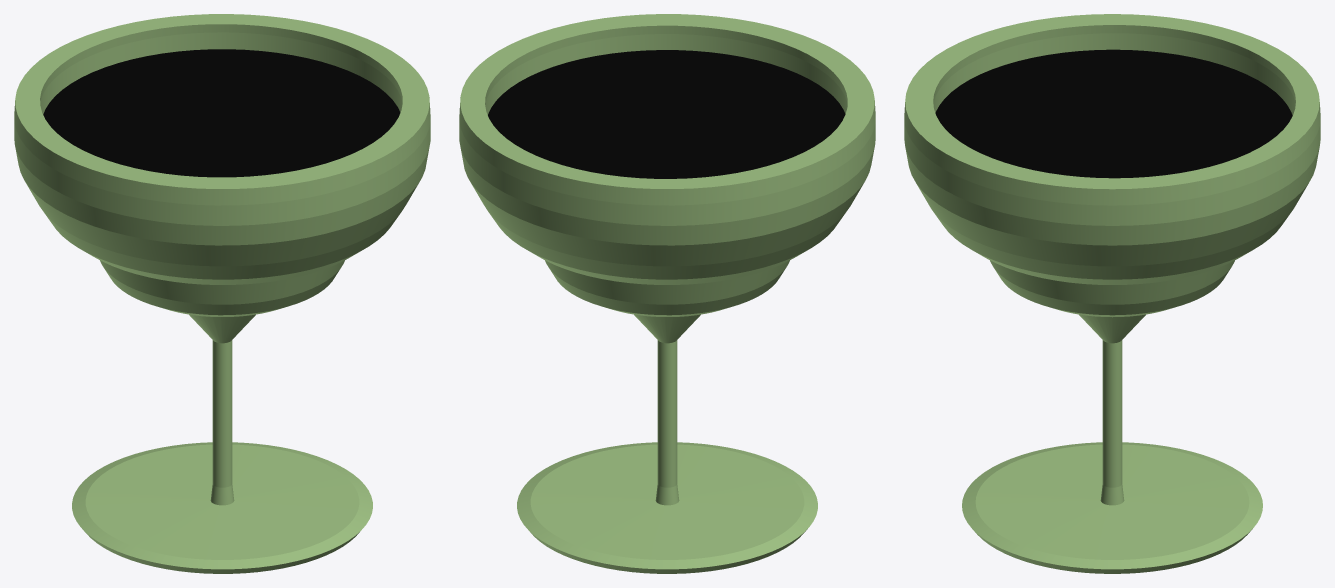
File: Glass7.FBX
The picture shows the model from 3 angles, left to right: view 1: azimuth 30°, elevation 25°; view 2: azimuth 150°, elevation 25°; view 3: azimuth 270°, elevation 25°; orthographic projection.
Parts seen in each view (by area): view 1: Object023, Object025, Line009; view 2: Object023, Object025, Line009; view 3: Object023, Object025, Line009.
Part boxes in pixels (x1,y1,x2,y2): Object023: (14,14,430,343); Object025: (43,49,400,177); Line009: (72,340,372,573); Object023: (459,14,875,343); Object025: (488,50,845,178); Line009: (517,340,817,573); Object023: (904,14,1320,343); Object025: (935,49,1292,178); Line009: (962,340,1262,573).
Size of the model in its own units: 64.25 by 69.98 by 64.25.
